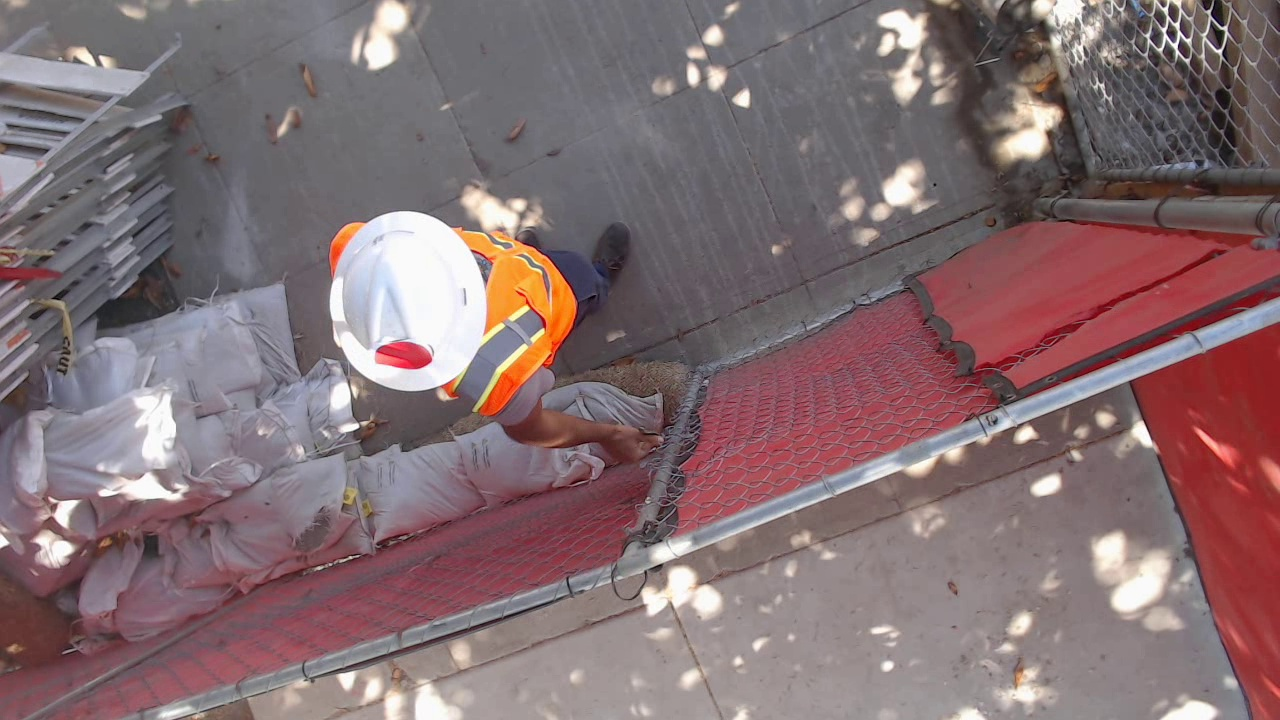hardhat: (330, 209, 490, 395)
person: (328, 209, 654, 464)
red: (376, 341, 431, 371)
safetyvest: (419, 227, 579, 418)
